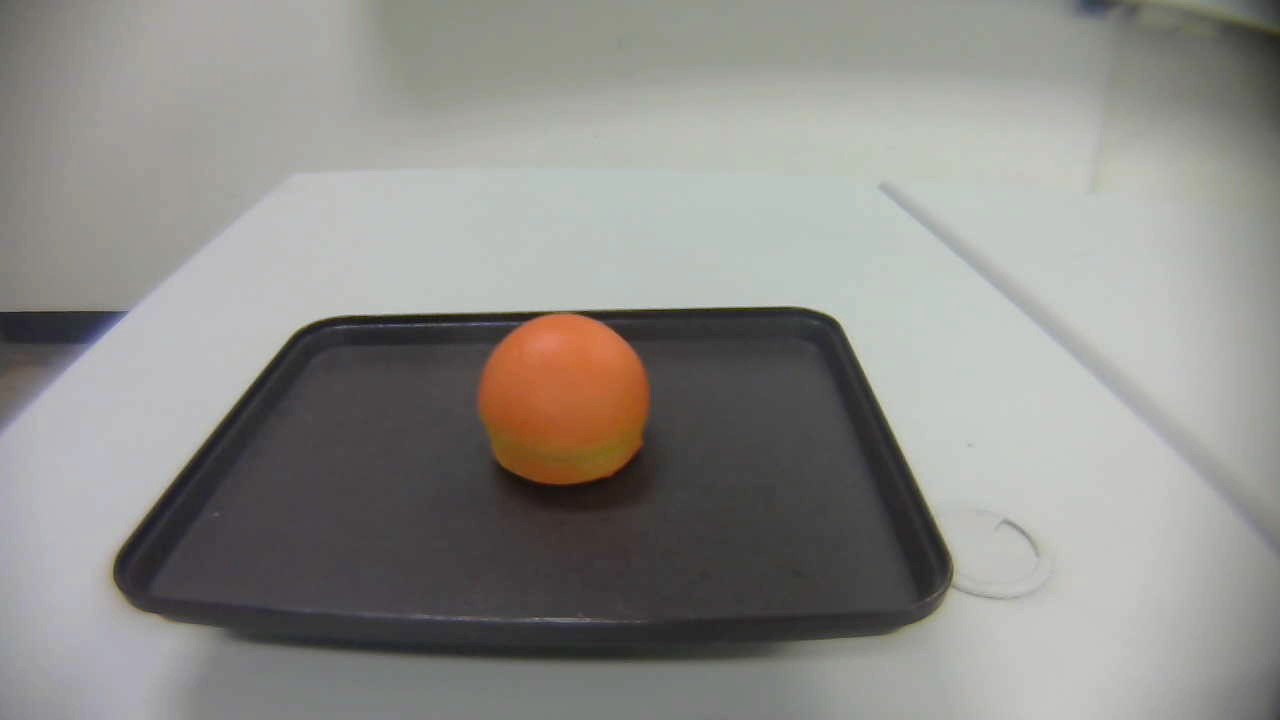bun: (474, 311, 651, 488)
